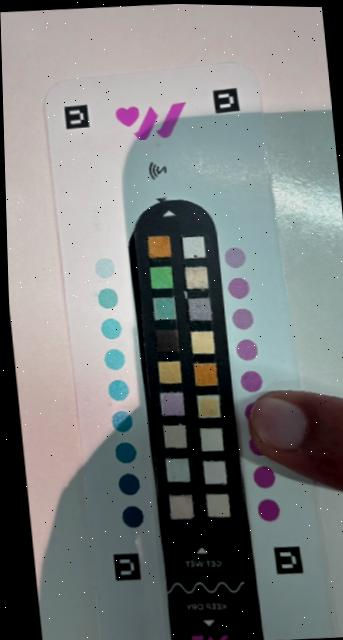black_strip: (121, 192, 271, 640)
circle: (81, 230, 173, 285), (106, 484, 199, 537), (80, 262, 176, 313), (91, 291, 180, 345), (97, 355, 186, 406), (102, 386, 188, 437), (95, 325, 182, 374), (109, 417, 193, 467), (111, 449, 193, 499), (173, 225, 252, 273), (180, 289, 255, 333), (178, 260, 250, 302), (186, 358, 264, 396), (186, 323, 260, 363), (201, 487, 281, 524), (199, 455, 273, 493), (219, 240, 249, 270), (223, 272, 253, 302), (232, 334, 262, 364), (231, 335, 261, 365), (233, 367, 263, 397), (90, 281, 120, 311), (95, 312, 125, 342), (97, 343, 127, 373), (109, 439, 139, 469), (111, 469, 141, 499), (115, 500, 145, 530), (227, 304, 257, 333), (253, 494, 283, 523), (86, 254, 116, 283), (102, 374, 132, 403), (106, 407, 135, 437), (250, 462, 279, 491)
obstacle: (241, 384, 343, 493)
shadow: (37, 107, 343, 640)
square: (164, 490, 196, 524), (188, 357, 220, 390), (193, 423, 226, 455), (149, 324, 181, 357), (190, 390, 224, 421), (154, 388, 188, 419), (159, 454, 194, 484), (200, 489, 232, 521), (141, 231, 174, 262), (147, 294, 180, 325), (185, 327, 220, 356), (145, 261, 177, 292), (198, 457, 231, 487), (157, 420, 188, 451), (183, 294, 215, 324), (180, 262, 211, 292), (178, 232, 208, 262), (153, 358, 184, 385)
triangle: (97, 95, 199, 202)
